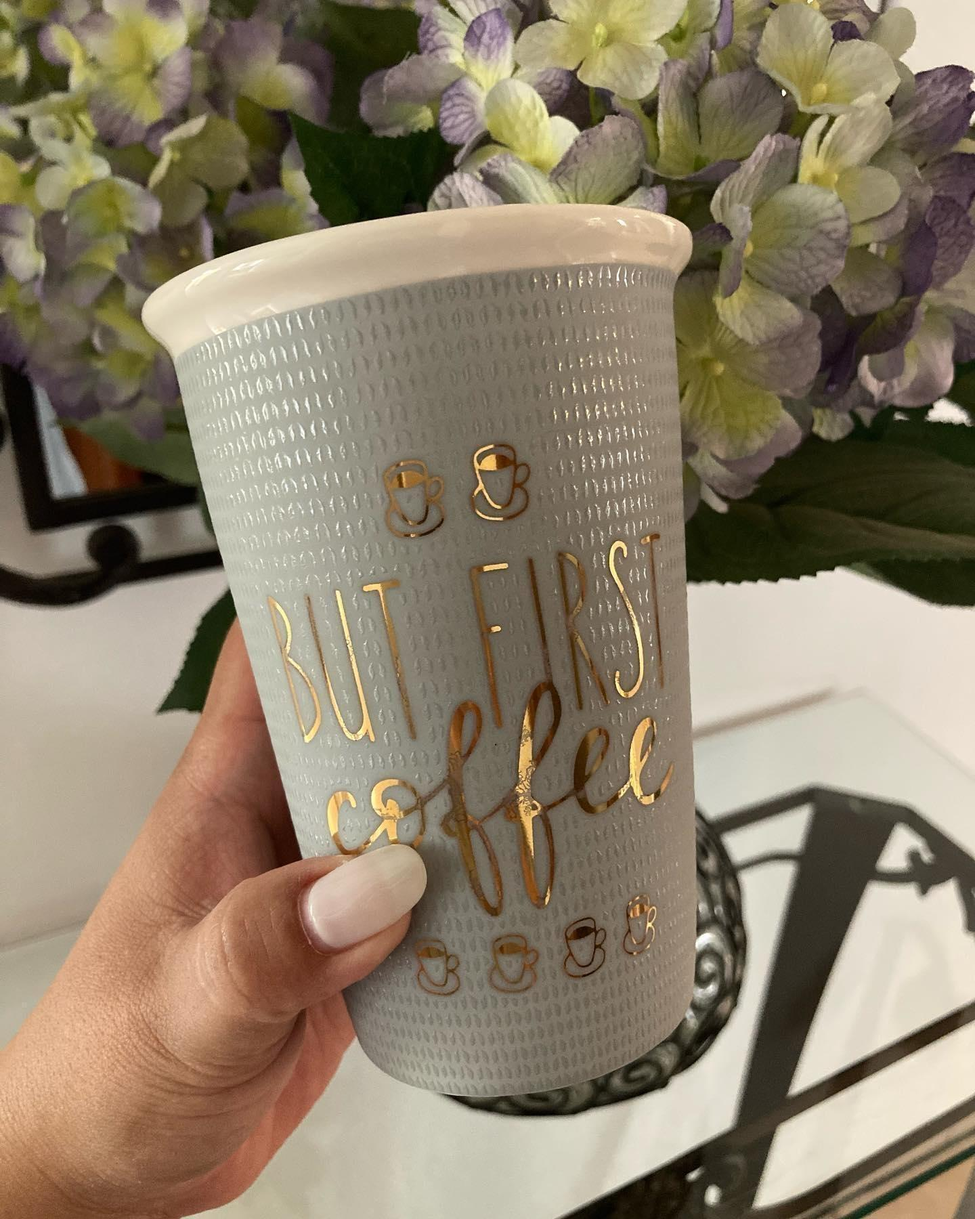cup-disposable: (141, 192, 745, 1119)
